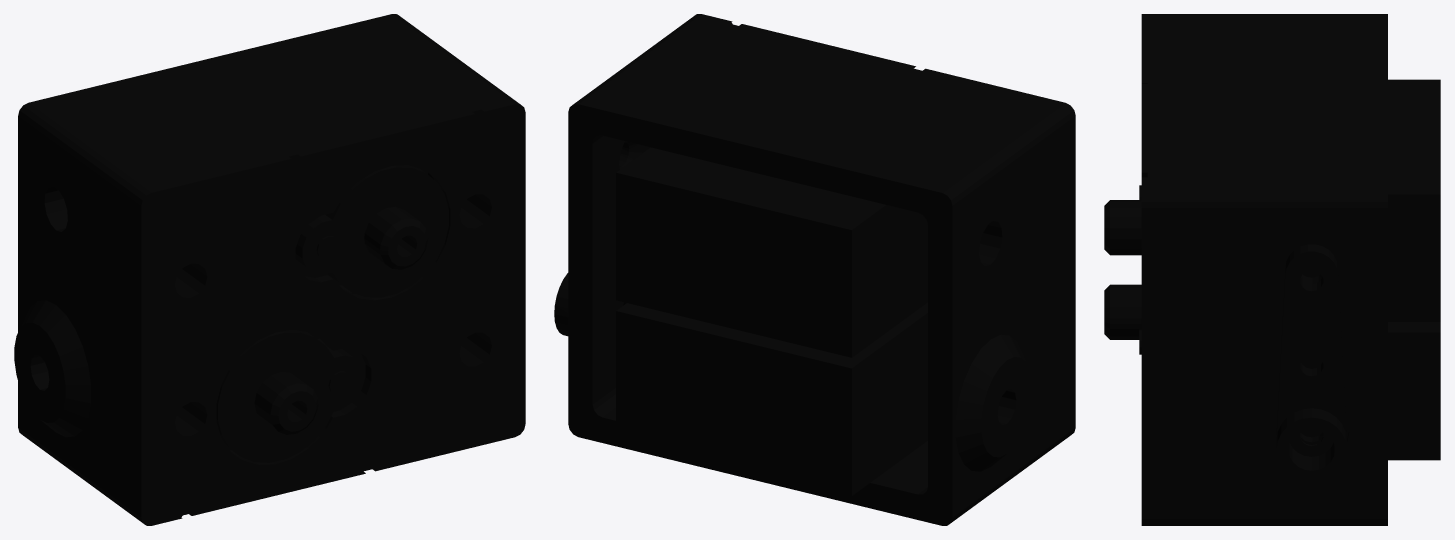
3 views of the same model, side by side, from view 1: azimuth 30°, elevation 25°; view 2: azimuth 150°, elevation 25°; view 3: azimuth 270°, elevation 25° (orthographic).
Parts seen in each view (by area): view 1: rb1; view 2: rb1; view 3: rb1.
Boxes of the visible parts, x1=… form: rb1: x1=14, y1=14, x2=525, y2=525; rb1: x1=554, y1=14, x2=1075, y2=525; rb1: x1=1104, y1=14, x2=1440, y2=525.
Size of the model in its own units: 0.0428 by 0.0287 by 0.0313.
1 material, 1 textured.
